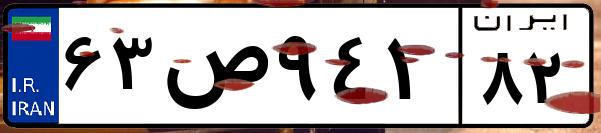1: (385, 28, 445, 110)
2: (525, 38, 570, 115)
3: (110, 28, 158, 98)
4: (330, 28, 385, 110)
6: (57, 26, 110, 100)
8: (475, 38, 525, 113)
9: (270, 28, 330, 110)
ص: (158, 20, 270, 120)
